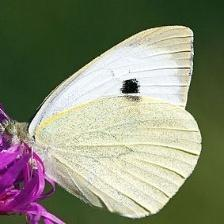butterfly: (3, 26, 202, 218)
